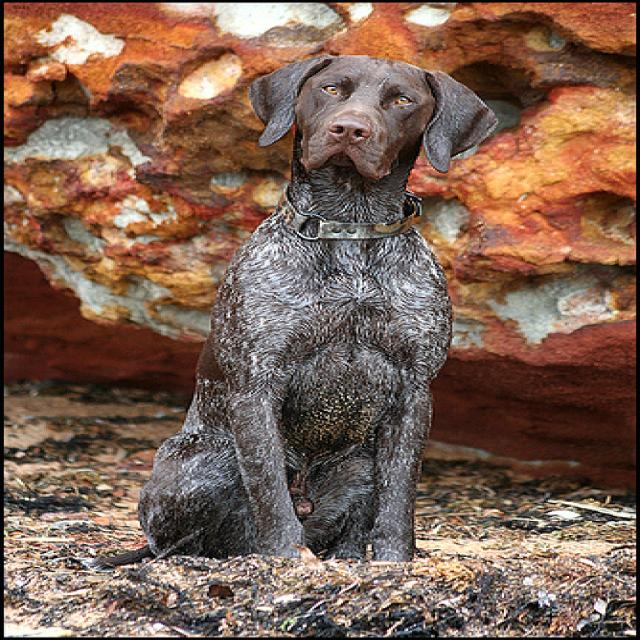dog-german_shorthaired: (65, 46, 502, 580)
